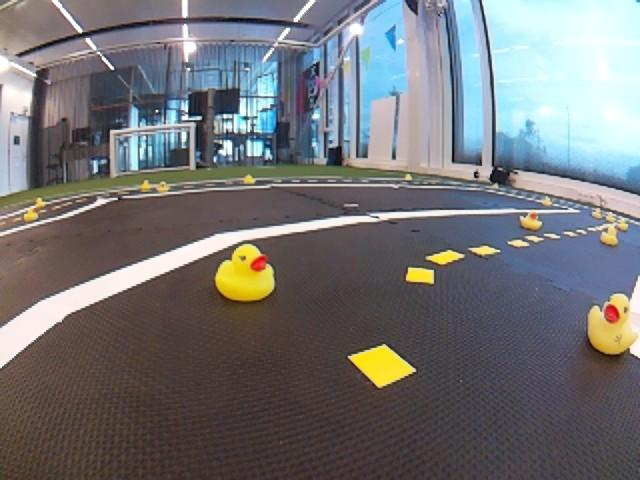Duckies: (214, 244, 275, 302), (587, 293, 639, 358), (519, 210, 543, 231), (600, 226, 618, 247), (23, 207, 39, 222), (616, 219, 628, 231), (156, 183, 169, 192), (34, 198, 47, 207), (606, 212, 616, 223), (243, 175, 255, 184), (592, 209, 602, 219), (140, 182, 152, 190), (542, 197, 551, 207), (404, 174, 412, 180)
